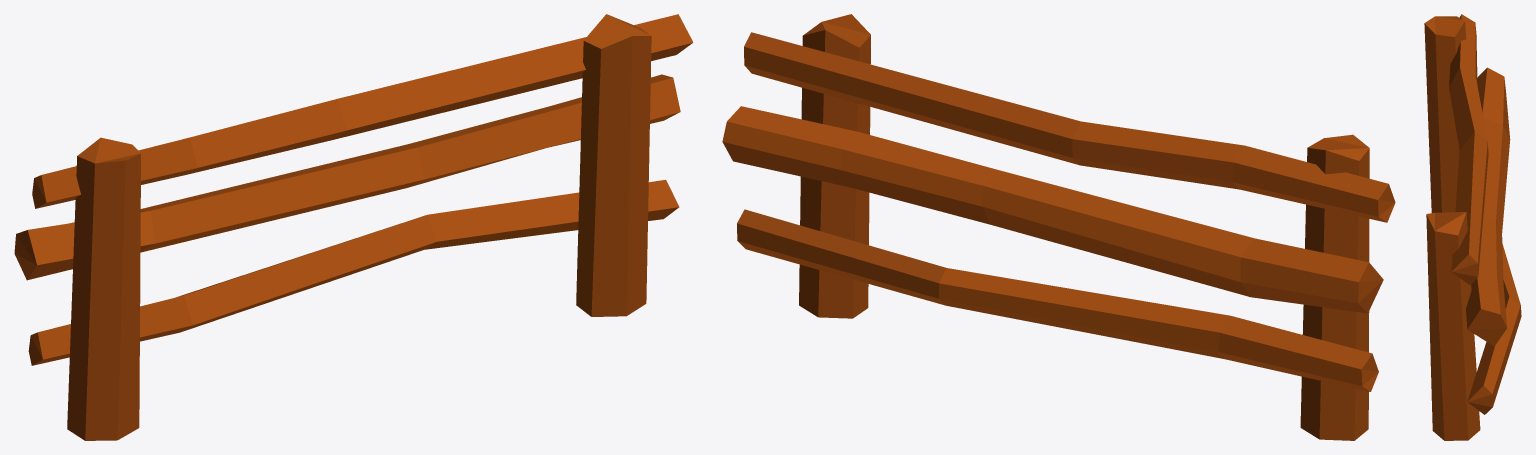
File: SM_Fence_2.fbx
The picture shows the model from 3 angles, left to right: view 1: azimuth 30°, elevation 25°; view 2: azimuth 150°, elevation 25°; view 3: azimuth 270°, elevation 25°; orthographic projection. The views are drawn at different scales.
Parts seen in each view (by area): view 1: SM_Fence_2; view 2: SM_Fence_2; view 3: SM_Fence_2.
Part boxes in pixels (x1,y1,x2,y2): SM_Fence_2: (14, 14, 693, 440); SM_Fence_2: (722, 14, 1395, 440); SM_Fence_2: (1424, 14, 1521, 440).
Bounding box in the file's own units: 65.23 × 27.54 × 11.01.
